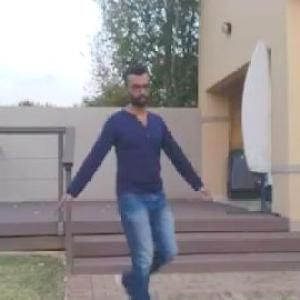land: (57, 78, 202, 299)
